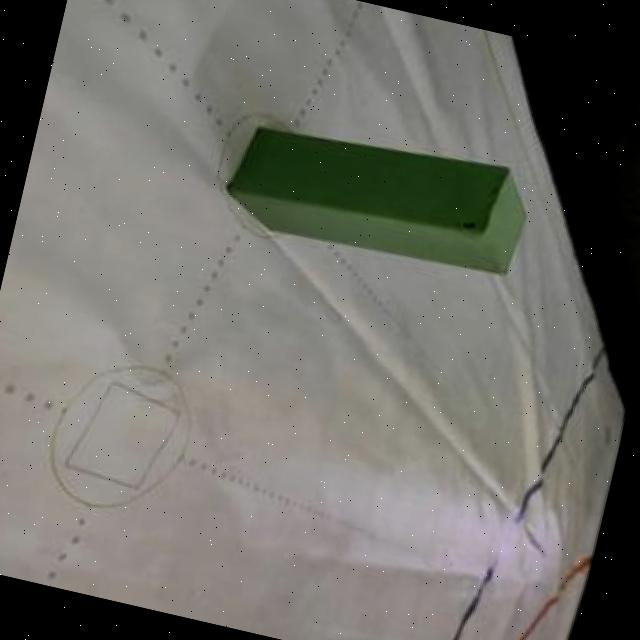greenbox: (215, 105, 541, 286)
